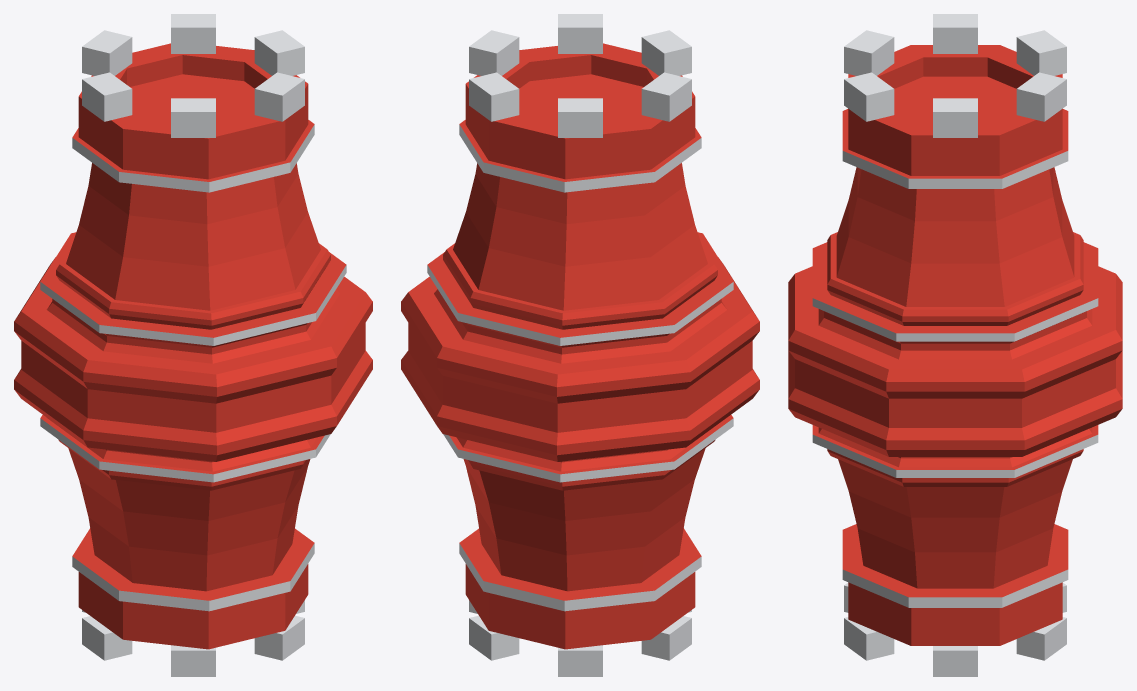
Rendered from rook-faceted.glb.
3 views of the same model, side by side, from view 1: azimuth 30°, elevation 25°; view 2: azimuth 150°, elevation 25°; view 3: azimuth 270°, elevation 25° (orthographic).
Parts seen in each view (by area): view 1: rook-faceted; view 2: rook-faceted; view 3: rook-faceted.
Boxes of the visible parts, x1=… form: rook-faceted: x1=14, y1=14, x2=372, y2=676; rook-faceted: x1=401, y1=14, x2=759, y2=676; rook-faceted: x1=788, y1=14, x2=1122, y2=676.
Size of the model in its own units: 0.4467 by 0.8333 by 0.4467.
